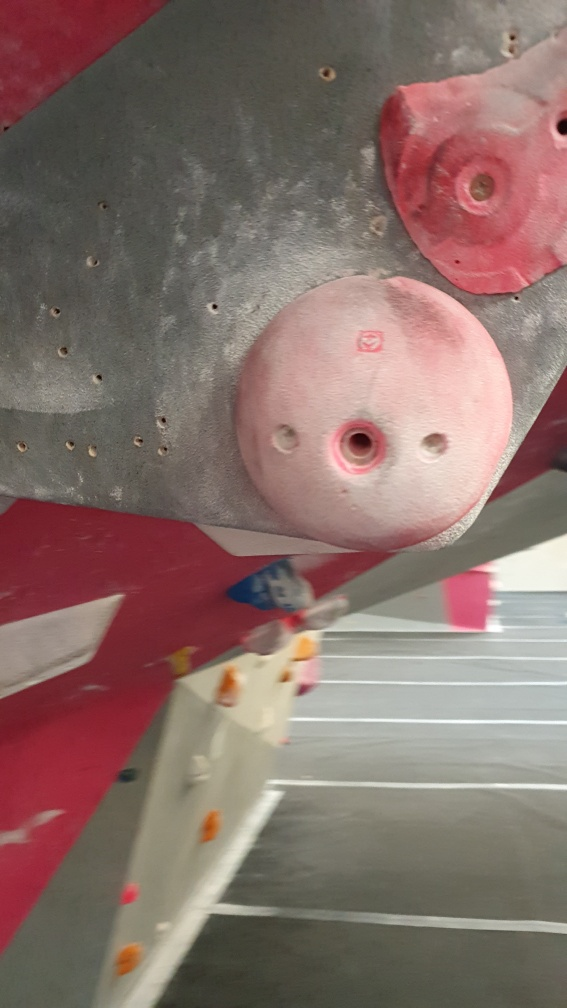Jug: (221, 554, 319, 615)
Pinch: (1, 589, 130, 719)
Sloper: (228, 266, 513, 556)
